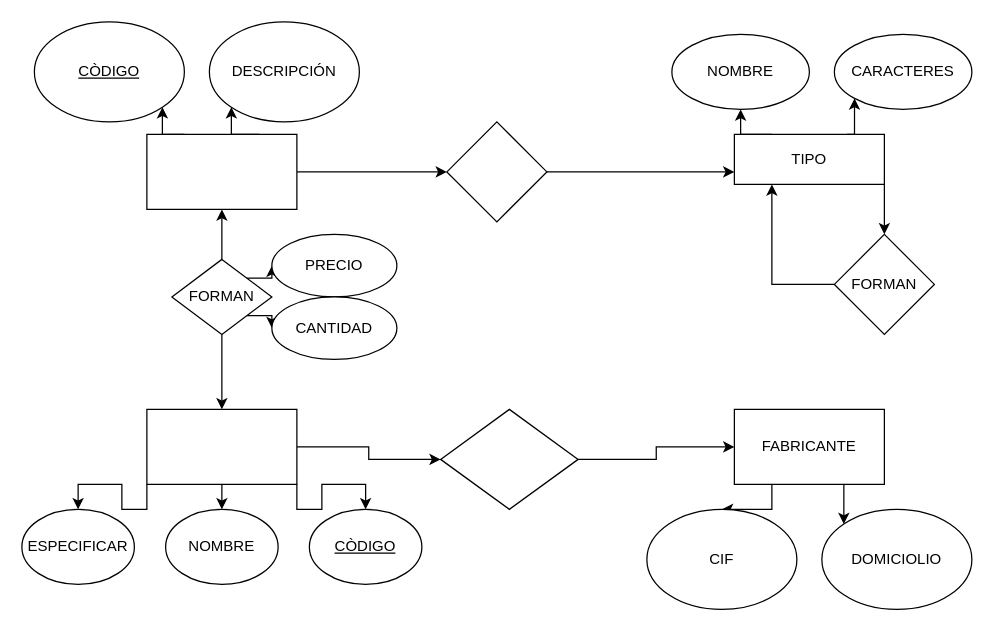
Some shapes in this 994 by 631 pixel diagram are drawn without their labels. The shapes that lost their labels are listed below. From the top down, each one's box as (x1, y1, x2, y2) in pixels, then its label:
(146, 133, 297, 209): APARATO ELECTRONICO
(446, 121, 547, 222): FORMA PARTE
(146, 408, 297, 484): COMPONENTE
(439, 408, 578, 509): SUMINISTRA
